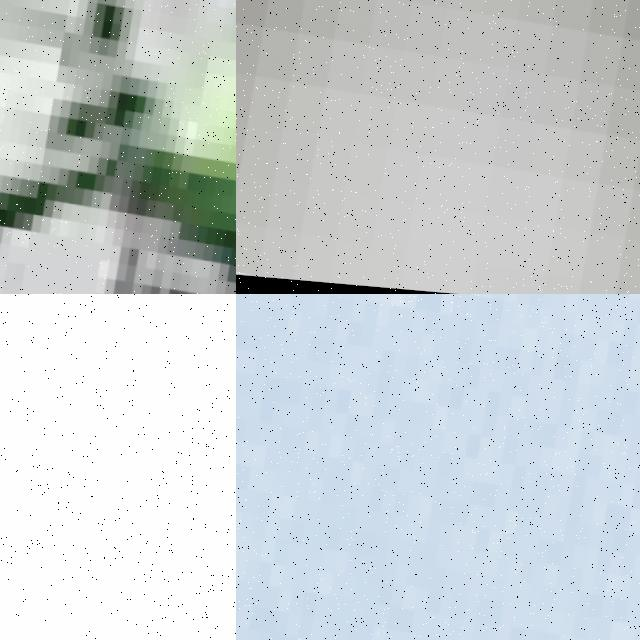0: (0, 0, 236, 294)
drone: (236, 294, 640, 640), (236, 0, 640, 294), (0, 294, 236, 640)
